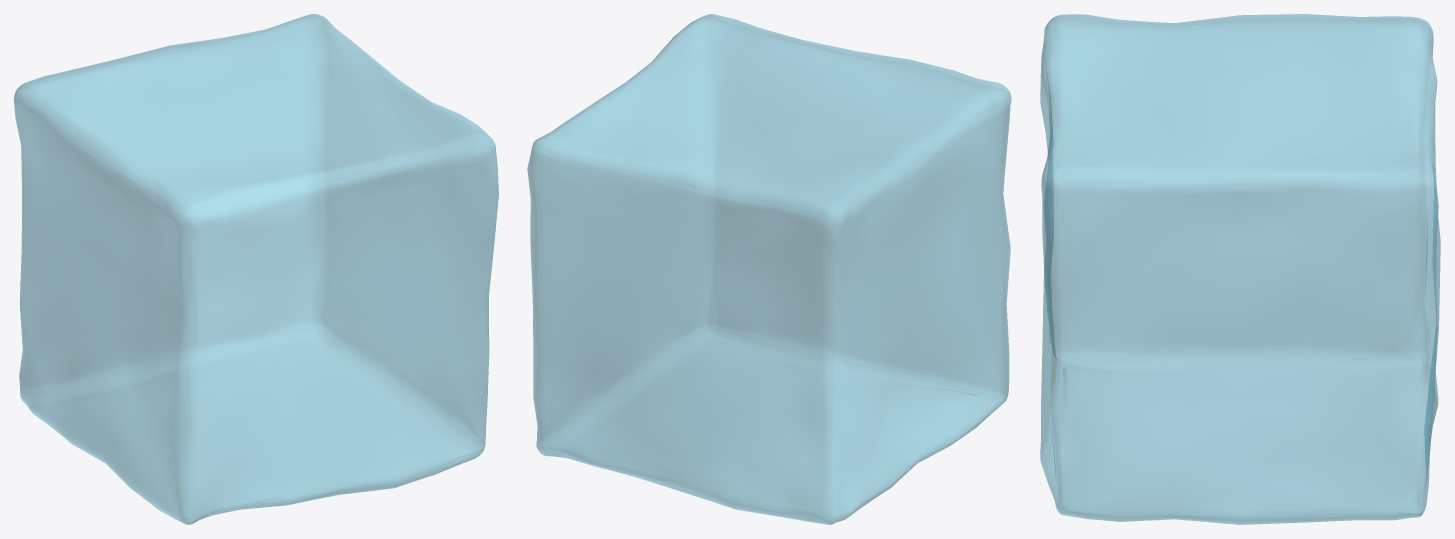
Rendered from ice_cube.glb.
3 views of the same model, side by side, from view 1: azimuth 30°, elevation 25°; view 2: azimuth 150°, elevation 25°; view 3: azimuth 270°, elevation 25° (orthographic). The views are drawn at different scales.
Visible parts, largest first — view 1: Material_001-material; view 2: Material_001-material; view 3: Material_001-material.
Boxes of the visible parts, bbox=[...] form: Material_001-material: bbox=[14, 14, 498, 524]; Material_001-material: bbox=[527, 14, 1011, 524]; Material_001-material: bbox=[1040, 14, 1440, 524].
Bounding box in the file's own units: 1.19 × 1.18 × 1.19.
